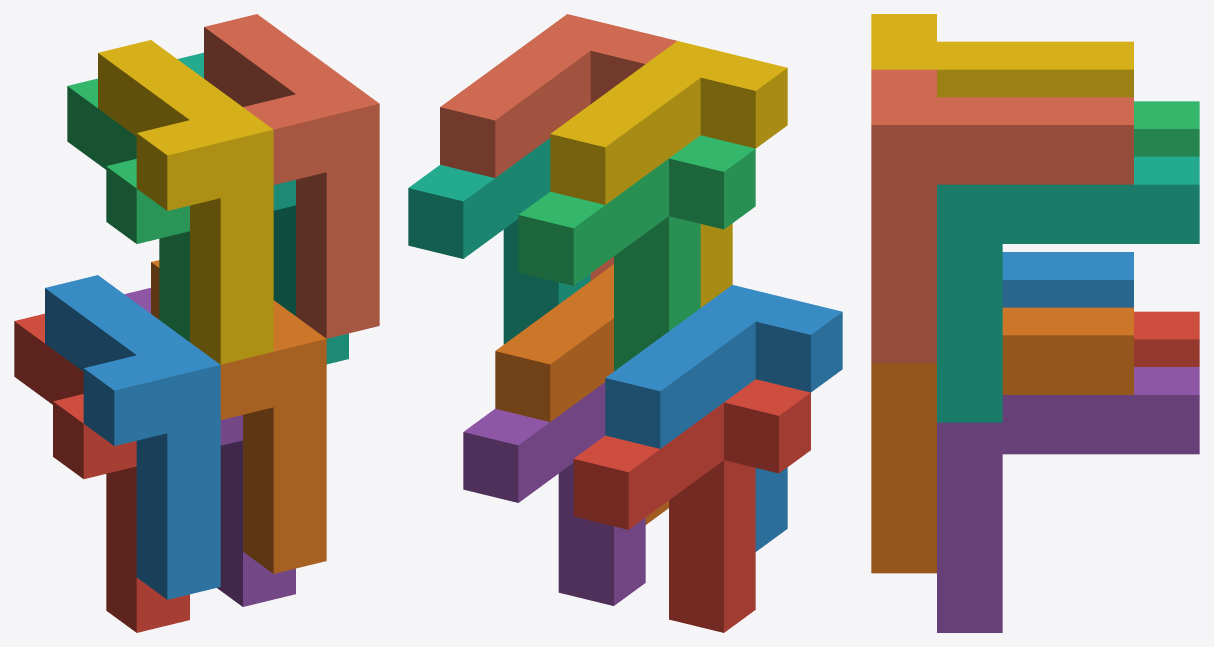
File: tiling.obj
3 views of the same model, side by side, from view 1: azimuth 30°, elevation 25°; view 2: azimuth 150°, elevation 25°; view 3: azimuth 270°, elevation 25° (orthographic). The views are drawn at different scales.
Parts seen in each view (by area): view 1: copy_1_domain_2, copy_1_domain_4, copy_1_domain_8, copy_1_domain_6, copy_1_domain_1, copy_1_domain_3, copy_1_domain_5, copy_1_domain_7; view 2: copy_1_domain_1, copy_1_domain_3, copy_1_domain_2, copy_1_domain_4, copy_1_domain_8, copy_1_domain_5, copy_1_domain_7, copy_1_domain_6; view 3: copy_1_domain_8, copy_1_domain_7, copy_1_domain_5, copy_1_domain_6, copy_1_domain_4, copy_1_domain_2, copy_1_domain_1, copy_1_domain_3.
Part boxes in pixels (<box>): copy_1_domain_2: <box>45,275,220,599</box>; copy_1_domain_4: <box>98,40,273,364</box>; copy_1_domain_8: <box>204,14,379,338</box>; copy_1_domain_6: <box>151,260,326,573</box>; copy_1_domain_1: <box>14,313,189,632</box>; copy_1_domain_3: <box>67,78,189,341</box>; copy_1_domain_5: <box>124,288,295,606</box>; copy_1_domain_7: <box>177,52,348,364</box>; copy_1_domain_1: <box>573,379,810,632</box>; copy_1_domain_3: <box>518,135,755,371</box>; copy_1_domain_2: <box>605,285,842,551</box>; copy_1_domain_4: <box>550,41,787,307</box>; copy_1_domain_8: <box>440,14,676,280</box>; copy_1_domain_5: <box>463,382,645,605</box>; copy_1_domain_7: <box>408,138,590,344</box>; copy_1_domain_6: <box>495,264,668,524</box>; copy_1_domain_8: <box>871,69,1133,362</box>; copy_1_domain_7: <box>937,156,1199,422</box>; copy_1_domain_5: <box>937,367,1199,632</box>; copy_1_domain_6: <box>871,307,1133,573</box>; copy_1_domain_4: <box>871,14,1133,97</box>; copy_1_domain_2: <box>1002,252,1133,307</box>; copy_1_domain_1: <box>1134,311,1199,366</box>; copy_1_domain_3: <box>1134,101,1199,156</box>.
Bounding box in the file's own units: 5 × 9 × 5.
